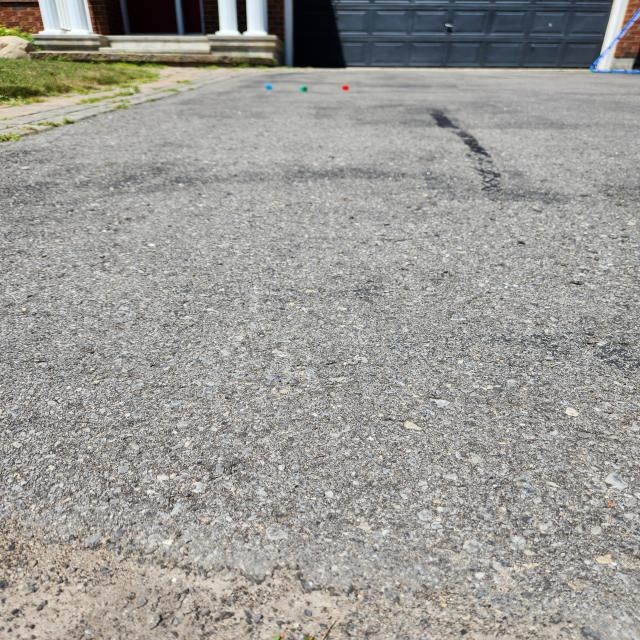bluecube: (266, 83, 273, 90)
green cube: (299, 85, 308, 93)
red cube: (342, 85, 349, 92)
